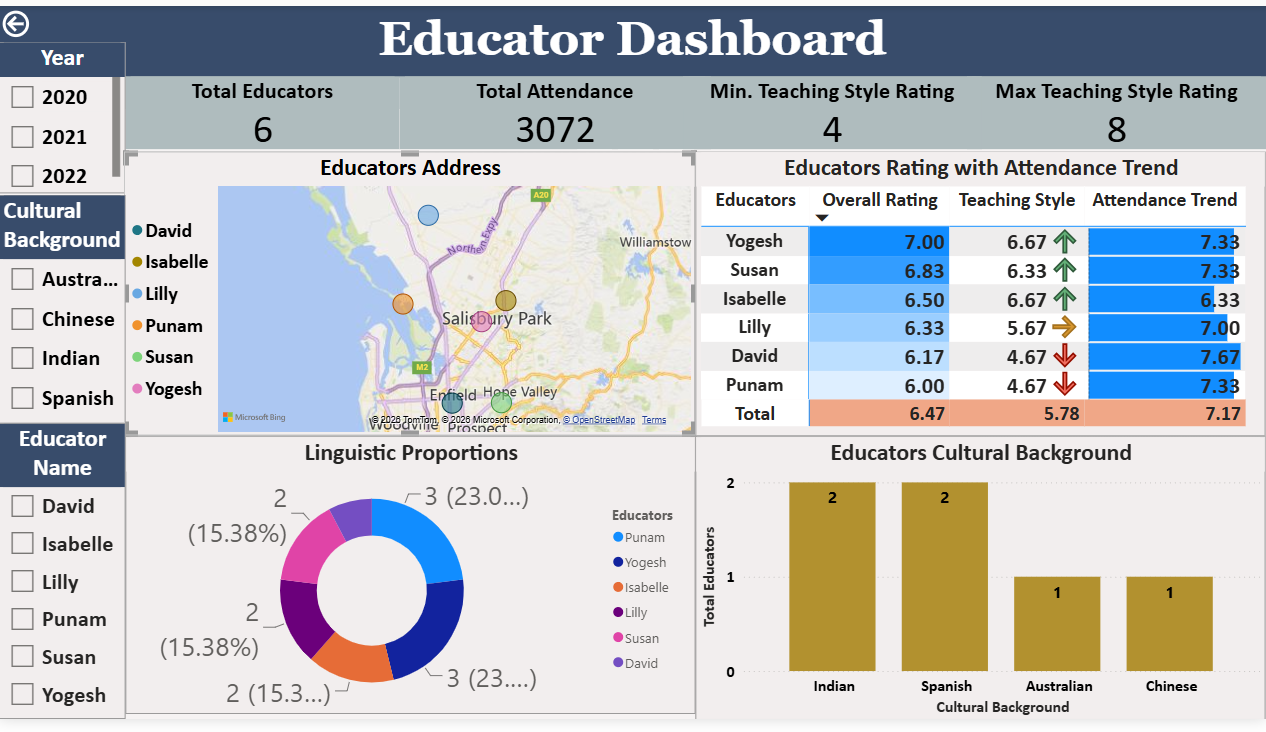

The dashboard page shown, as its layout file describes it:
{"tool":"powerbi","page":{"name":"Educator","canvas":[1280,720],"ordinal":1},"visuals":[{"type":"textbox","box":[0,0,1280.3,72.1],"z":0},{"type":"card","title":"Total Educators","fields":{"Values":["Count(Educator.educator_name)"]},"box":[128.7,71.5,276.6,73.1],"z":1000},{"type":"card","title":"Max Teaching Style Rating","fields":{"Values":["Max(EducatorRating.teaching_style)"]},"box":[977.5,71.5,302,73.1],"z":2000},{"type":"slicer","title":"Year","fields":{"Values":["EducatorRating.year"]},"box":[0,36.6,128.7,152.6],"z":3000},{"type":"map","title":"Educators Address","fields":{"Category":["Educator.address"],"Series":["Educator.educator_name"]},"box":[127.6,146.2,576.9,287.1],"z":4000},{"type":"pivotTable","title":"Educators Rating with Attendance Trend","fields":{"Rows":["Educator.educator_name"],"Values":["Avg(EducatorRating.overall_rating)","Avg(EducatorRating.teaching_style)","Avg(EducatorRating.attendance_trend)"]},"box":[704.5,146.2,575.5,287.1],"z":5000},{"type":"actionButton","box":[0,0,128.8,36.1],"z":6000},{"type":"columnChart","title":"Educators Cultural Background","fields":{"Category":["Educator.cultural_background"],"Y":["Count(Educator.educator_name)"]},"box":[704.1,433.9,575.4,286.1],"z":7000},{"type":"donutChart","title":"Linguistic Proportions","fields":{"Category":["Educator.educator_name"],"Y":["Sum(Educator.spoken_languages)"]},"box":[128.7,433.9,575.4,279.7],"z":8000},{"type":"slicer","title":"Educator Name","fields":{"Values":["Educator.educator_name"]},"box":[0,421.2,128.7,298.8],"z":9000},{"type":"card","title":"Total Attendance","fields":{"Values":["CountNonNull(EducatorAttendance.e_attendance_id)"]},"box":[405.3,71.5,313.1,73.1],"z":10000},{"type":"card","title":"Min. Teaching Style Rating","fields":{"Values":["Min(EducatorRating.teaching_style)"]},"box":[691.4,71.5,300.4,73.1],"z":11000},{"type":"slicer","title":"Cultural Background","fields":{"Values":["Educator.cultural_background"]},"box":[0,190.7,128.7,230.5],"z":12000}]}

Visuals, with their boxes in screenshot pixels (x1, y1, x2, y2), scaled from the page's 1280x720 canvas onto the 1266x732 screenshot:
textbox: 0 0 1265 73
"Total Educators" card: 127 73 401 147
"Max Teaching Style Rating" card: 967 73 1265 147
"Year" slicer: 0 37 127 192
"Educators Address" map: 126 149 697 441
"Educators Rating with Attendance Trend" pivotTable: 697 149 1265 441
actionButton: 0 0 127 37
"Educators Cultural Background" columnChart: 696 441 1265 731
"Linguistic Proportions" donutChart: 127 441 696 725
"Educator Name" slicer: 0 428 127 731
"Total Attendance" card: 401 73 711 147
"Min. Teaching Style Rating" card: 684 73 981 147
"Cultural Background" slicer: 0 194 127 428
